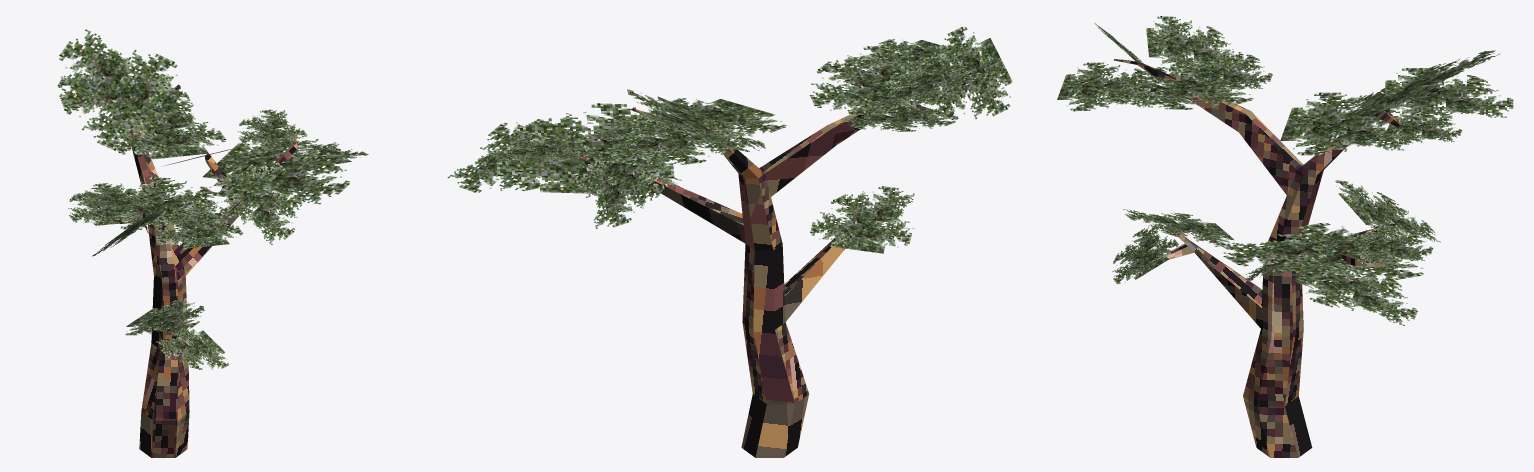
Rendered from MontereyCyprus.glb.
3 views of the same model, side by side, from view 1: azimuth 30°, elevation 25°; view 2: azimuth 150°, elevation 25°; view 3: azimuth 270°, elevation 25° (orthographic). The views are drawn at different scales.
Parts seen in each view (by area): view 1: trunk-col, Leaves2, Leaves13, Leaves4, Leaves14, Leaves6, Leaves16, Leaves9, Leaves12, Leaves8, Leaves10, Leaves7 (+3 smaller); view 2: trunk-col, Leaves13, Leaves5, Leaves8, Leaves6, Leaves11, Leaves, Leaves15, Leaves7, Leaves2, Leaves4, Leaves10 (+3 smaller); view 3: trunk-col, Leaves13, Leaves4, Leaves15, Leaves, Leaves7, Leaves6, Leaves16, Leaves2, Leaves11, Leaves12, Leaves9 (+4 smaller).
Part boxes in pixels (left/top/right/bottom): trunk-col: left=102, top=84, right=297, bottom=457; Leaves2: left=58, top=29, right=182, bottom=151; Leaves13: left=203, top=133, right=350, bottom=204; Leaves4: left=111, top=98, right=226, bottom=159; Leaves14: left=219, top=161, right=301, bottom=244; Leaves6: left=109, top=177, right=225, bottom=229; Leaves16: left=154, top=200, right=243, bottom=248; Leaves9: left=156, top=324, right=229, bottom=369; Leaves12: left=238, top=109, right=307, bottom=146; Leaves8: left=125, top=300, right=204, bottom=335; Leaves10: left=68, top=183, right=134, bottom=225; Leaves7: left=75, top=187, right=155, bottom=210; trunk-col: left=524, top=86, right=930, bottom=457; Leaves13: left=496, top=103, right=674, bottom=194; Leaves5: left=896, top=26, right=1012, bottom=120; Leaves8: left=810, top=186, right=914, bottom=253; Leaves6: left=809, top=45, right=942, bottom=115; Leaves11: left=574, top=144, right=670, bottom=228; Leaves: left=599, top=115, right=752, bottom=165; Leaves15: left=447, top=119, right=595, bottom=193; Leaves7: left=869, top=65, right=980, bottom=111; Leaves2: left=627, top=89, right=765, bottom=152; Leaves4: left=620, top=98, right=786, bottom=137; Leaves10: left=841, top=106, right=955, bottom=131; trunk-col: left=1114, top=59, right=1439, bottom=457; Leaves13: left=1215, top=222, right=1423, bottom=281; Leaves4: left=1280, top=92, right=1414, bottom=155; Leaves15: left=1295, top=249, right=1418, bottom=325; Leaves: left=1385, top=68, right=1513, bottom=120; Leaves7: left=1146, top=16, right=1244, bottom=72; Leaves6: left=1091, top=66, right=1253, bottom=109; Leaves16: left=1057, top=62, right=1163, bottom=111; Leaves2: left=1342, top=50, right=1499, bottom=116; Leaves11: left=1335, top=180, right=1440, bottom=242; Leaves12: left=1350, top=225, right=1433, bottom=263; Leaves9: left=1112, top=223, right=1178, bottom=284.
Bounding box in the file's own units: 18.45 × 16.27 × 16.74.
13 materials, 13 textured.
